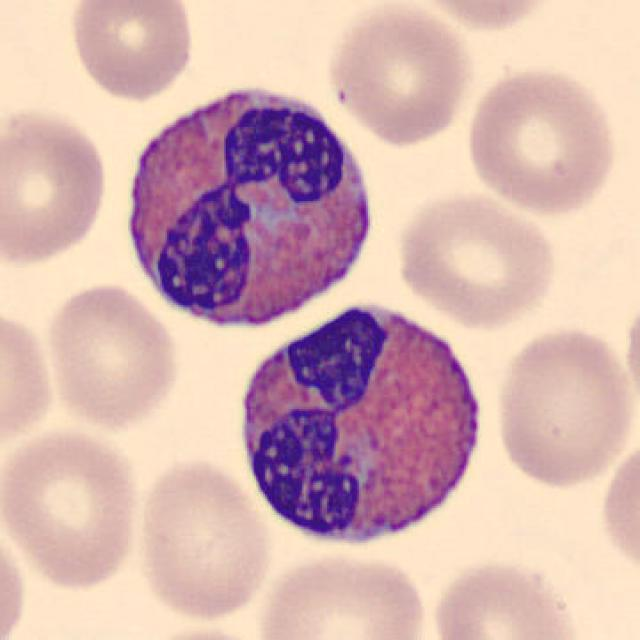Eosinophil: (112, 69, 388, 340), (228, 289, 494, 563)
RBC: (489, 321, 636, 492), (0, 423, 146, 594), (460, 62, 620, 217), (132, 453, 274, 624), (393, 188, 562, 329), (41, 279, 185, 432), (324, 2, 476, 146), (0, 104, 112, 270), (252, 548, 432, 640), (63, 0, 197, 102), (428, 553, 584, 640), (0, 303, 59, 455), (595, 428, 640, 587), (403, 0, 561, 33), (0, 513, 30, 640), (620, 284, 640, 427), (128, 624, 277, 640)
